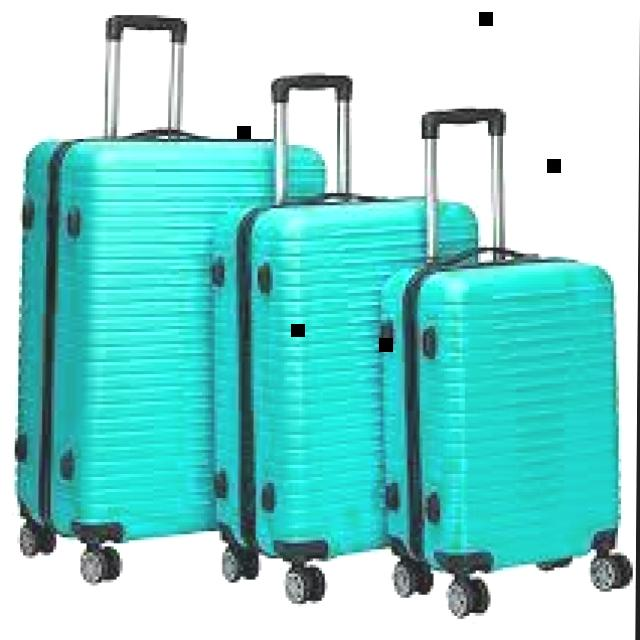luggage: (6, 121, 331, 545), (202, 181, 482, 560), (368, 242, 628, 576)
